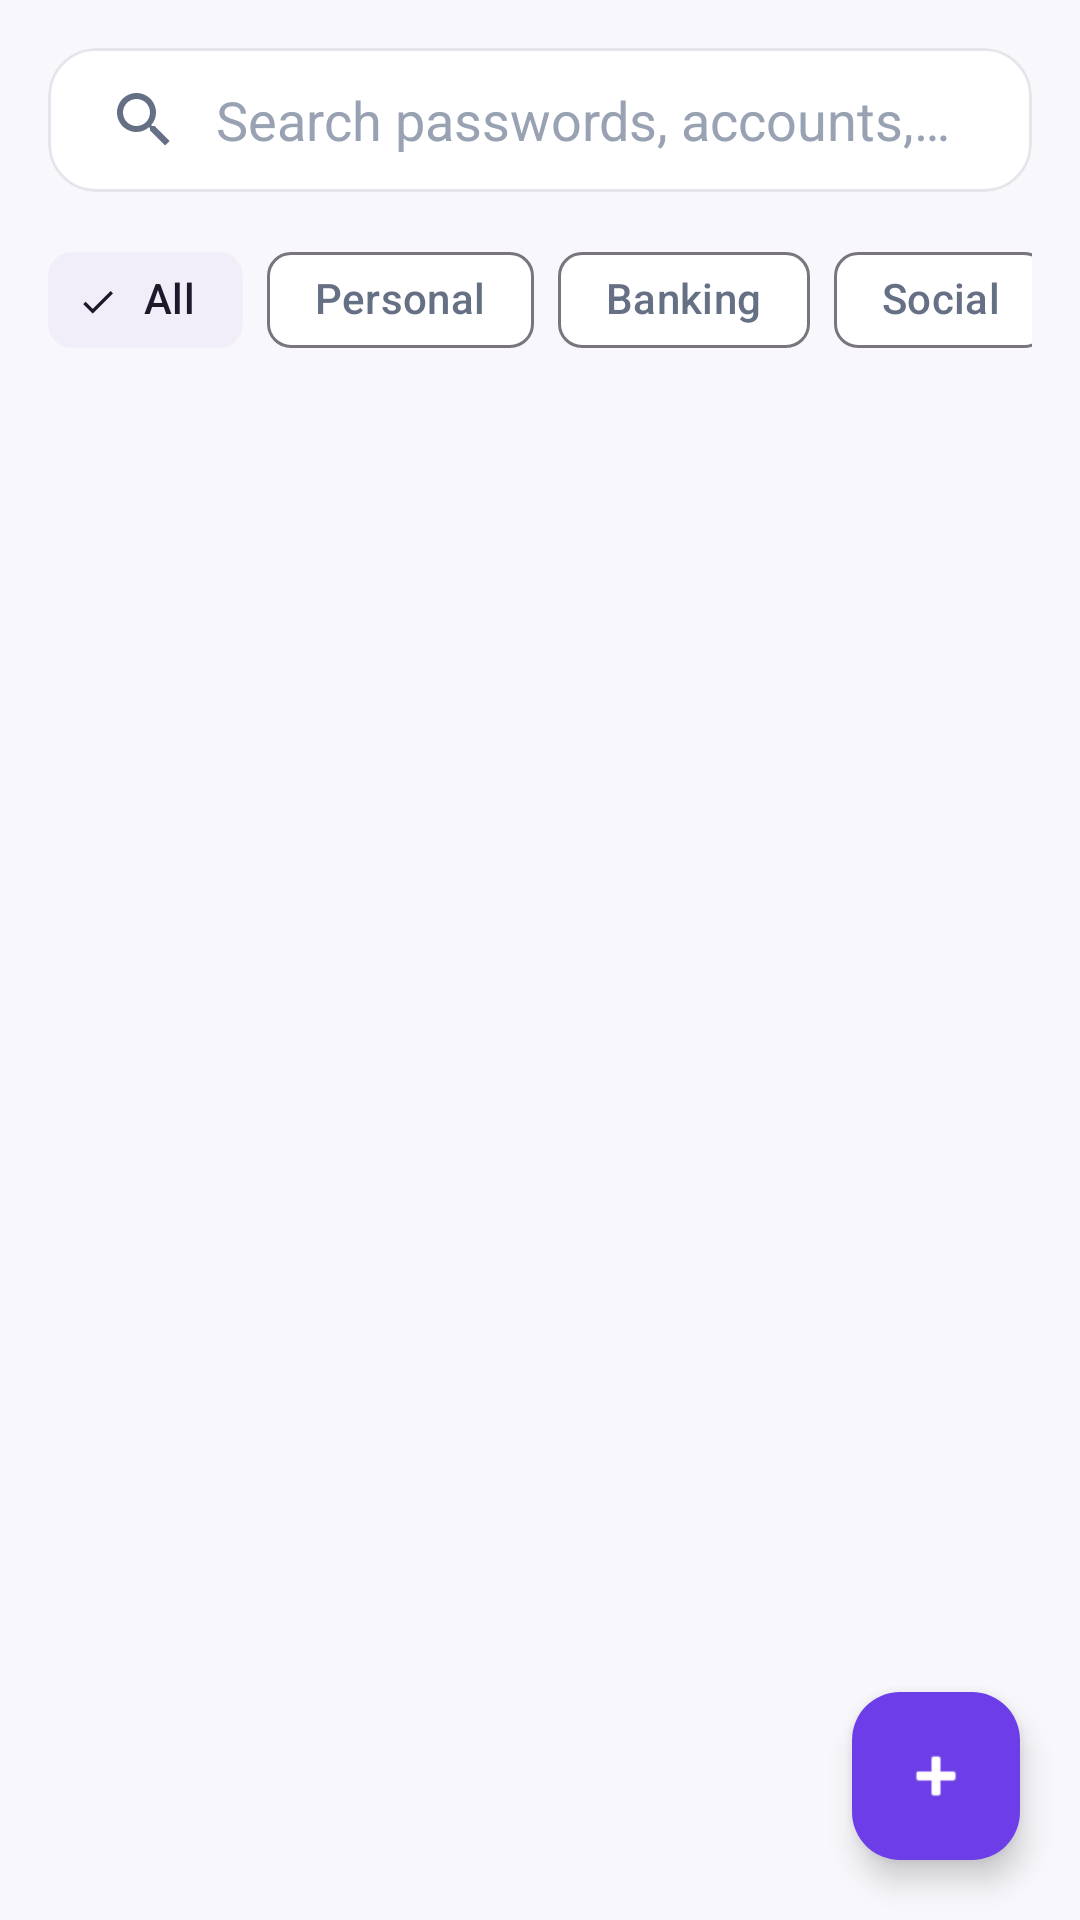

Named icons in this screenshot (1080px×1920px) and their centers, point (x, y):
Add Vault Item: point (936, 1776)
